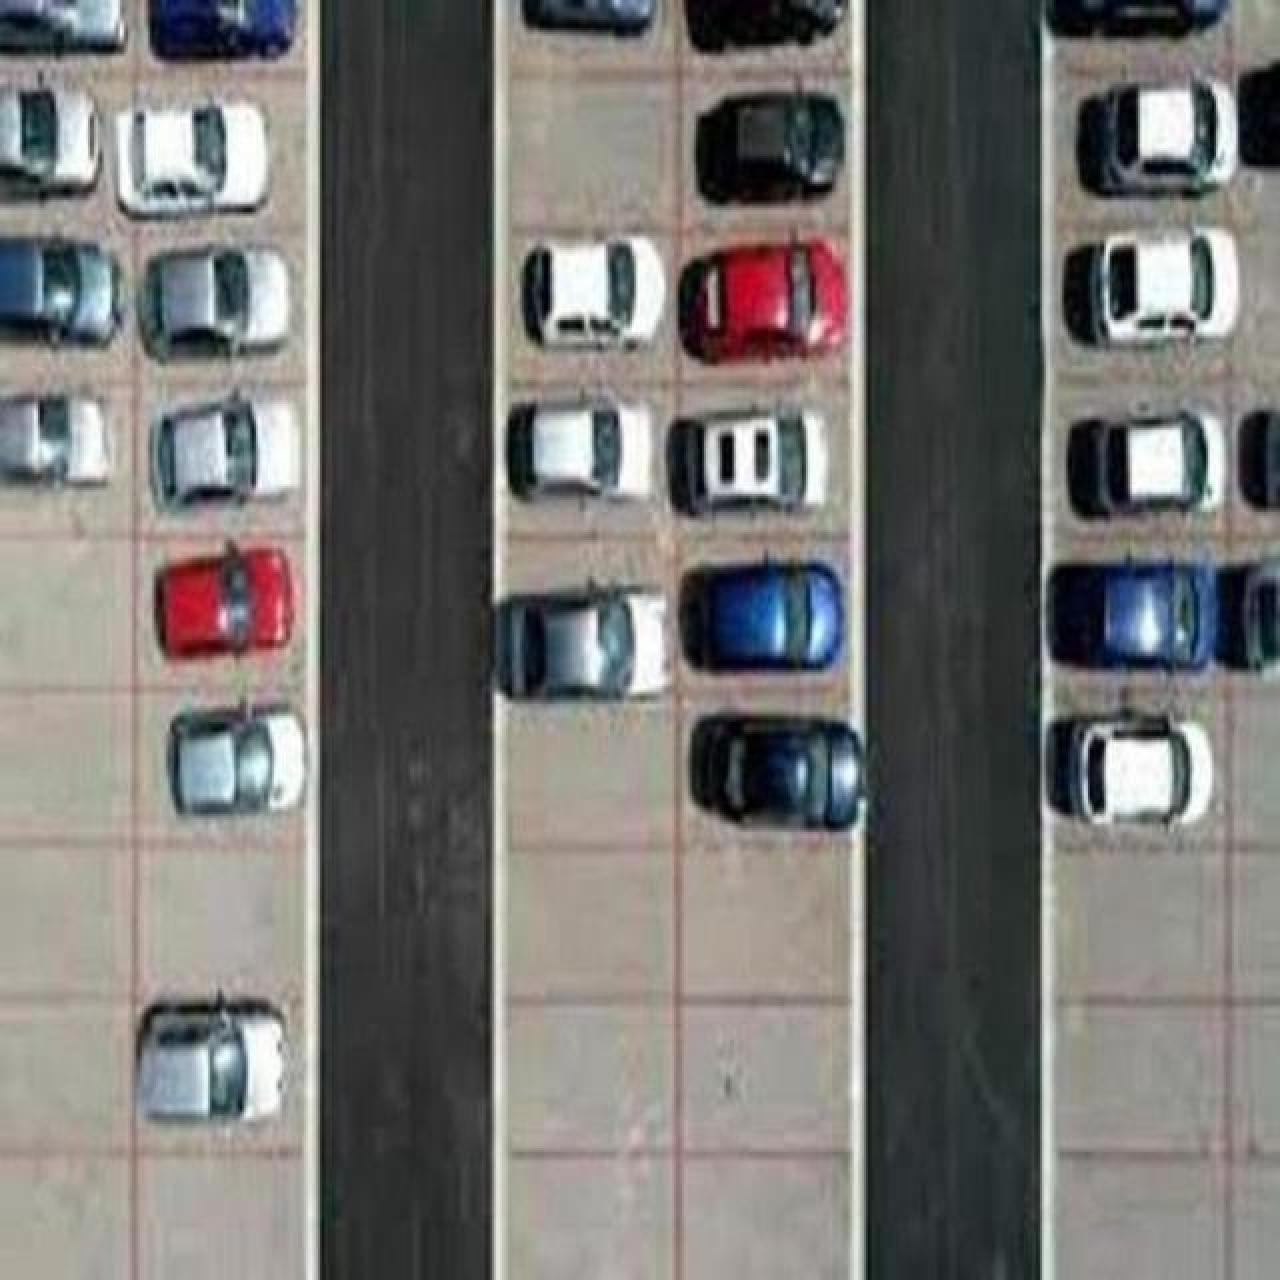car: (1062, 224, 1240, 348), (678, 238, 846, 366), (134, 992, 288, 1124), (686, 714, 862, 830), (1046, 710, 1214, 830), (1076, 74, 1238, 198), (493, 586, 668, 700), (1046, 558, 1216, 670), (678, 558, 844, 672), (113, 98, 270, 218), (663, 406, 828, 518), (1064, 408, 1226, 520), (142, 241, 290, 360), (150, 394, 298, 510), (694, 90, 844, 204), (520, 236, 663, 352), (152, 542, 294, 658), (166, 700, 306, 816), (506, 394, 652, 502), (0, 234, 122, 348), (0, 82, 102, 198), (0, 392, 110, 488), (148, 0, 297, 60), (680, 0, 846, 52), (1044, 0, 1228, 38), (0, 0, 125, 54), (520, 0, 656, 36)
